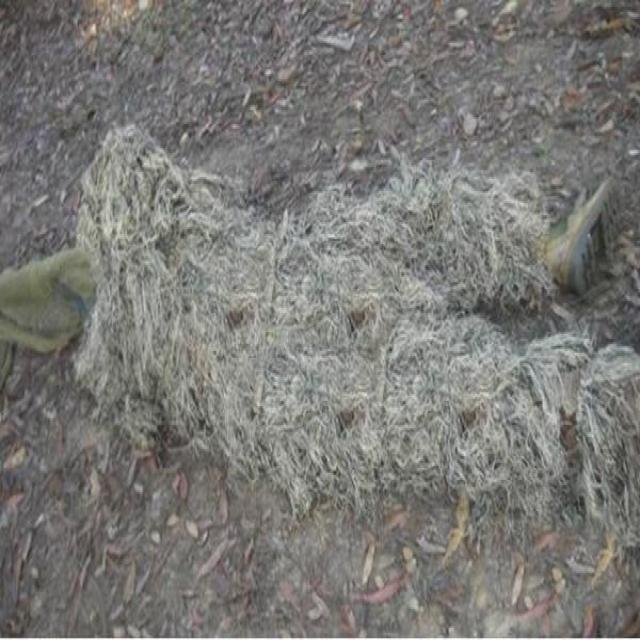Camouflage: (70, 119, 639, 544)
